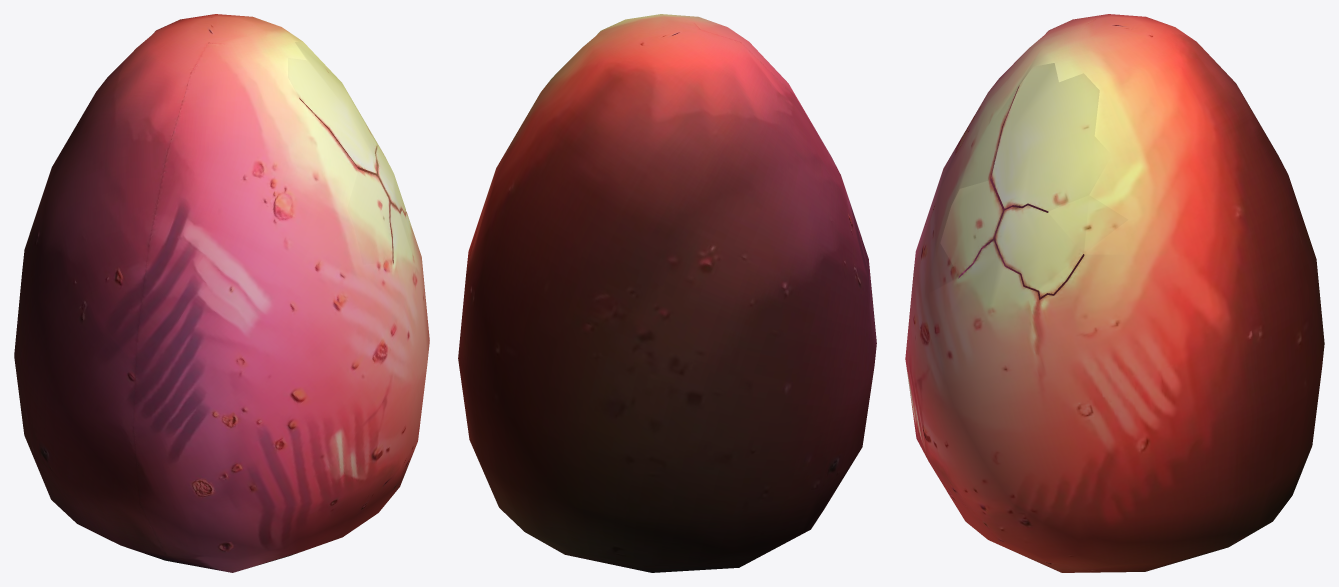
File: egg.glb
3 views of the same model, side by side, from view 1: azimuth 30°, elevation 25°; view 2: azimuth 150°, elevation 25°; view 3: azimuth 270°, elevation 25° (orthographic).
Visible parts, largest first — view 1: yaika; view 2: yaika; view 3: yaika.
Part boxes in pixels (x1=…): yaika: x1=14, y1=14, x2=429, y2=572; yaika: x1=458, y1=14, x2=876, y2=572; yaika: x1=905, y1=14, x2=1324, y2=572.
Size of the model in its own units: 0.9658 by 1.32 by 0.9658.
Materials: 1 (1 with a texture image).
